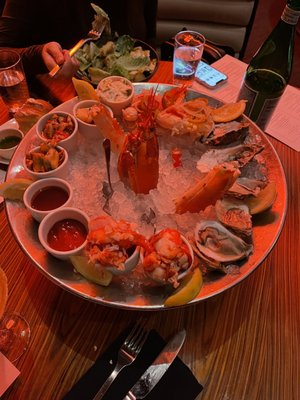burger: (93, 325, 149, 399)
pizza: (23, 177, 71, 223), (0, 50, 30, 118), (173, 30, 206, 79), (13, 98, 53, 138)
sandwich: (60, 322, 150, 400), (100, 331, 167, 400), (93, 322, 150, 400), (125, 328, 186, 400)
sushi: (5, 138, 70, 182), (38, 208, 90, 260), (72, 99, 122, 142), (22, 141, 69, 181), (35, 111, 78, 150), (95, 76, 134, 116)
